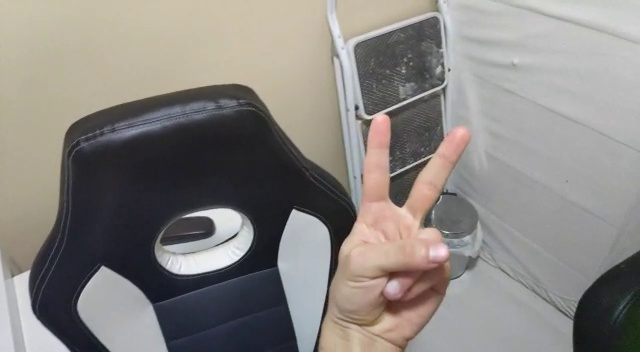Peace: (323, 105, 472, 334)
